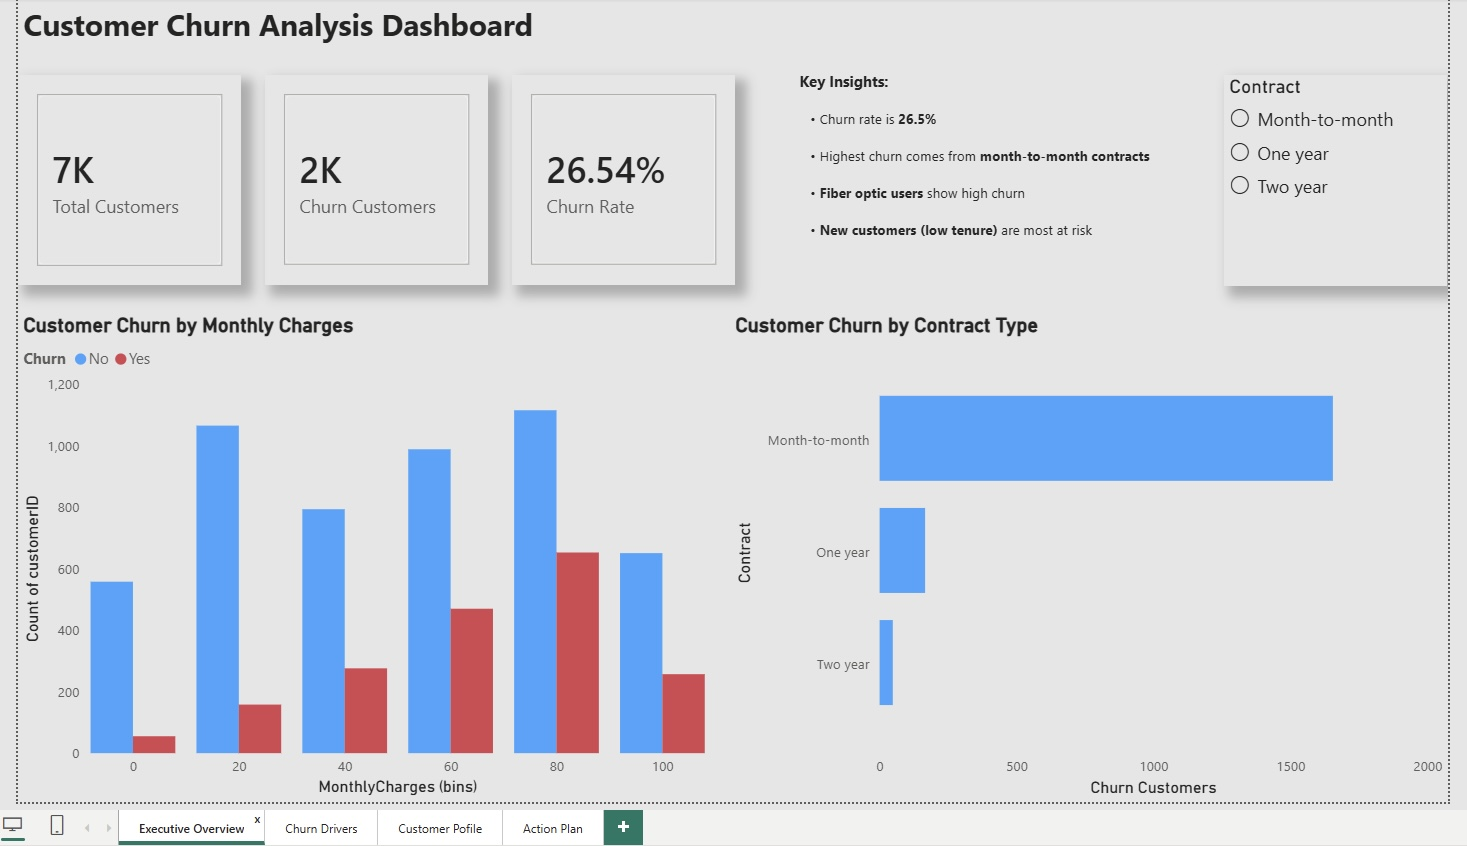

This screenshot's page, from the dashboard's own definition file:
{"tool":"powerbi","page":{"name":"Executive Overview","canvas":[1280,720],"ordinal":0},"visuals":[{"type":"cardVisual","fields":{"Data":["WA_Fn-UseC_-Telco-Customer-Churn.Total Customers"]},"box":[0,68.8,200,188],"z":0},{"type":"cardVisual","fields":{"Data":["WA_Fn-UseC_-Telco-Customer-Churn.Churn Customers"]},"box":[221.2,68.8,200,187.5],"z":1000},{"type":"cardVisual","fields":{"Data":["WA_Fn-UseC_-Telco-Customer-Churn.Churn Rate"]},"box":[442.5,68.8,200,187.5],"z":2000},{"type":"clusteredBarChart","title":"Customer Churn by Contract Type","fields":{"Category":["WA_Fn-UseC_-Telco-Customer-Churn.Contract"],"Y":["WA_Fn-UseC_-Telco-Customer-Churn.Churn Customers"]},"box":[637.5,282.5,642.5,437.5],"z":3000},{"type":"clusteredColumnChart","title":"Customer Churn by Monthly Charges","fields":{"Category":["WA_Fn-UseC_-Telco-Customer-Churn.MonthlyCharges (bins)"],"Series":["WA_Fn-UseC_-Telco-Customer-Churn.Churn"],"Y":["CountNonNull(WA_Fn-UseC_-Telco-Customer-Churn.customerID)"]},"box":[0,282.5,620,437.5],"z":4000},{"type":"listSlicer","fields":{"Values":["WA_Fn-UseC_-Telco-Customer-Churn.Contract"]},"box":[1080,69,199.7,189],"z":5000},{"type":"textbox","box":[0,0,642.5,68.8],"z":6000},{"type":"textbox","box":[694.9,60.9,332.2,196.1],"z":6001}]}

Visuals, with their boxes on the page's 1280x720 design canvas (x1, y1, x2, y2). These are canvas units, not pixel positions in the 1467x846 screenshot, which may show the page scaled, cropped or inside an application window:
cardVisual - WA_Fn-UseC_-Telco-Customer-Churn.Total Customers: box(0, 69, 200, 257)
cardVisual - WA_Fn-UseC_-Telco-Customer-Churn.Churn Customers: box(221, 69, 421, 256)
cardVisual - WA_Fn-UseC_-Telco-Customer-Churn.Churn Rate: box(442, 69, 642, 256)
"Customer Churn by Contract Type" clusteredBarChart: box(638, 282, 1280, 720)
"Customer Churn by Monthly Charges" clusteredColumnChart: box(0, 282, 620, 720)
listSlicer - WA_Fn-UseC_-Telco-Customer-Churn.Contract: box(1080, 69, 1280, 258)
textbox: box(0, 0, 642, 69)
textbox: box(695, 61, 1027, 257)
